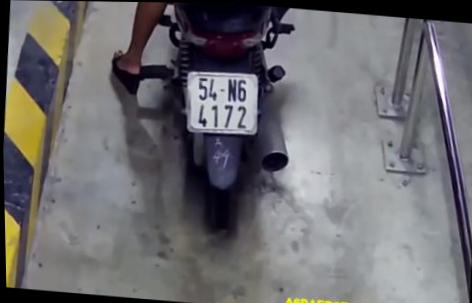LP: (181, 67, 262, 138)
